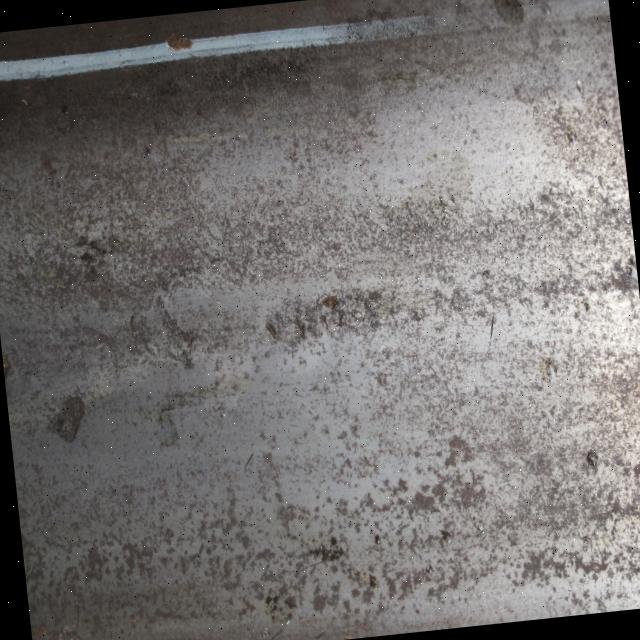Contact_Fatigue_Cracks: (265, 287, 403, 361), (530, 257, 639, 311), (42, 389, 95, 449)
